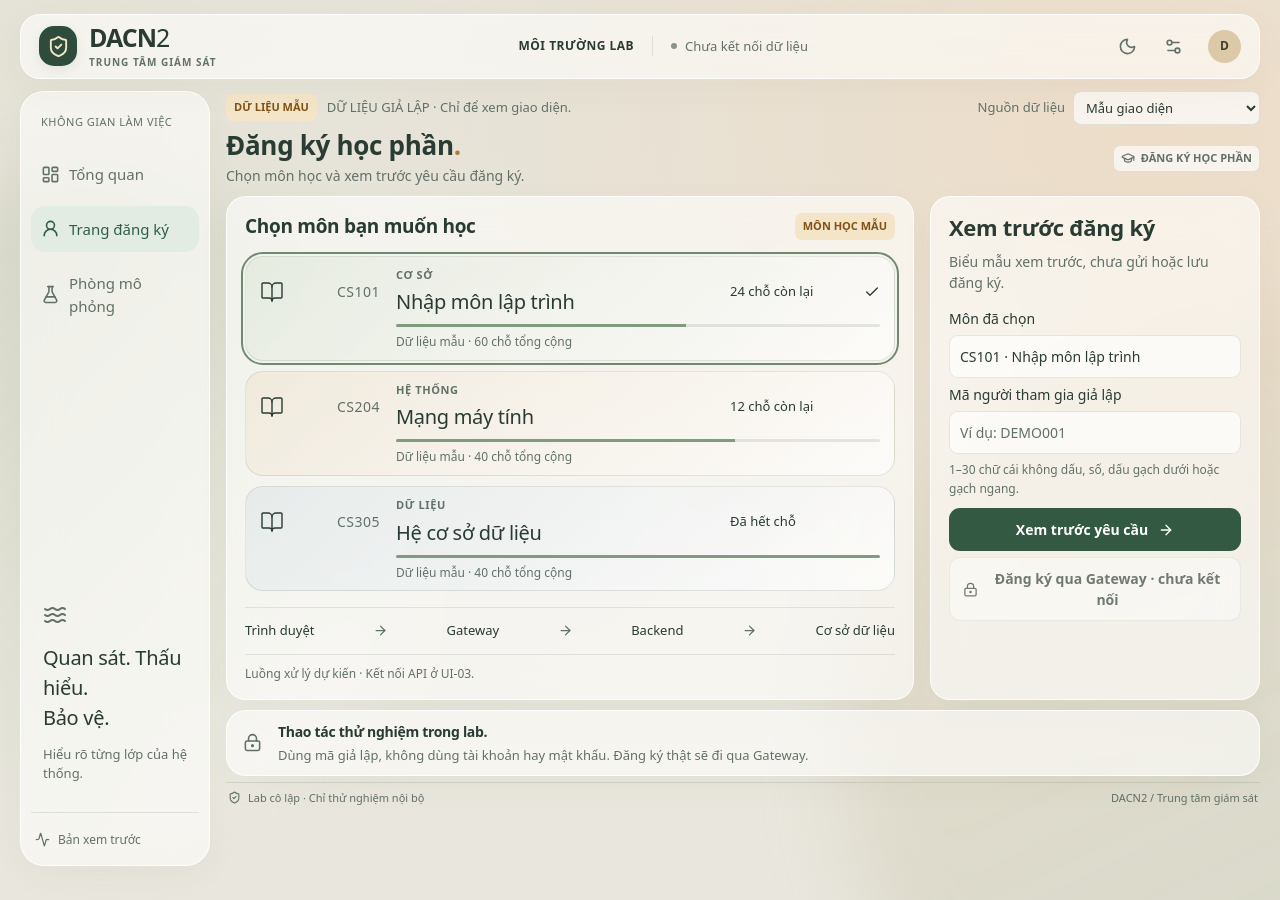
Test case: design preview provenance and boundaries › does not claim a real registration from the form preview
The image size is (1280, 900).
Type "DEMO001" into the field labelled "Mã người tham gia giả lập" at (1095, 432), box [949, 411, 1241, 454]
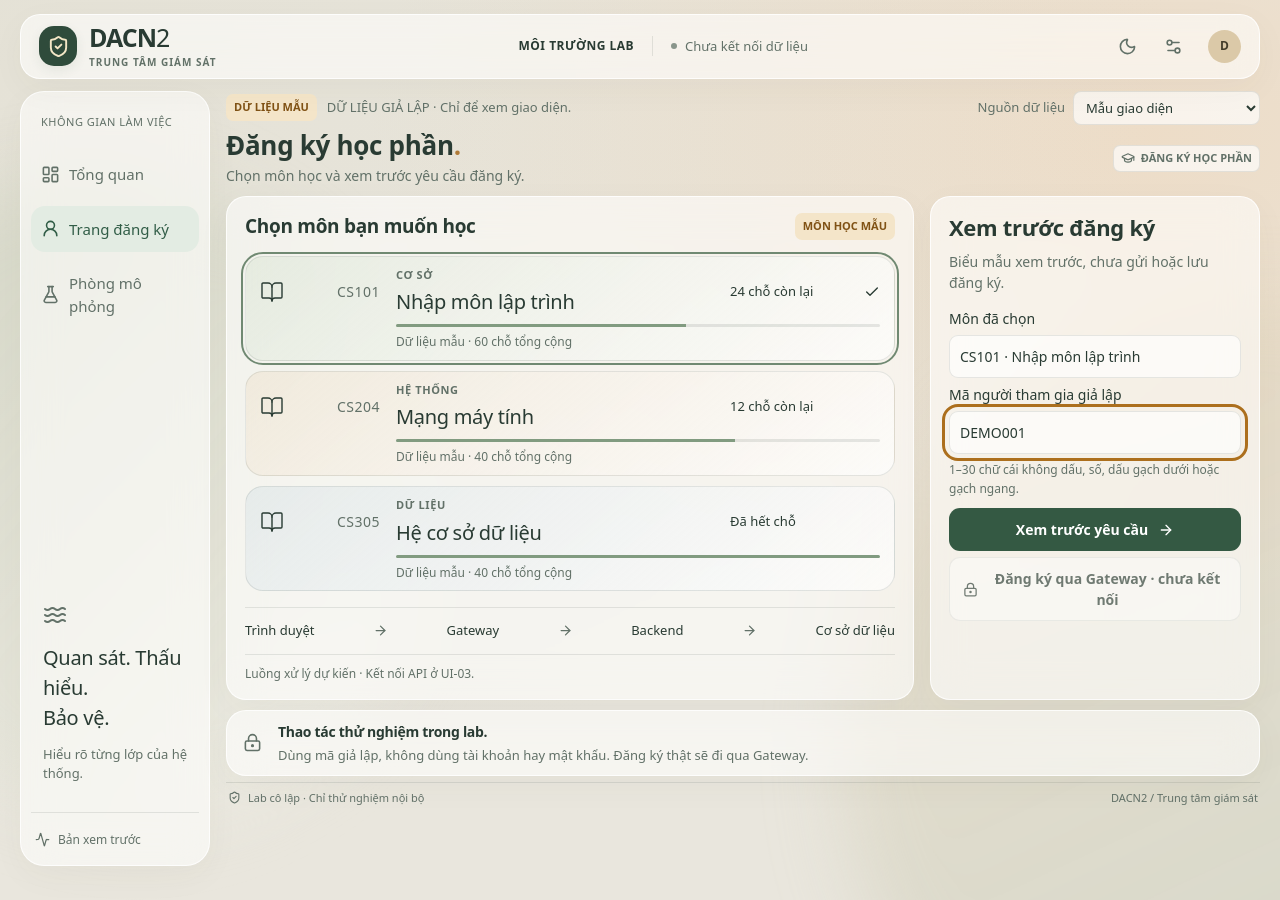
Click the button "Xem trước yêu cầu" at (1095, 530), box [949, 508, 1241, 551]
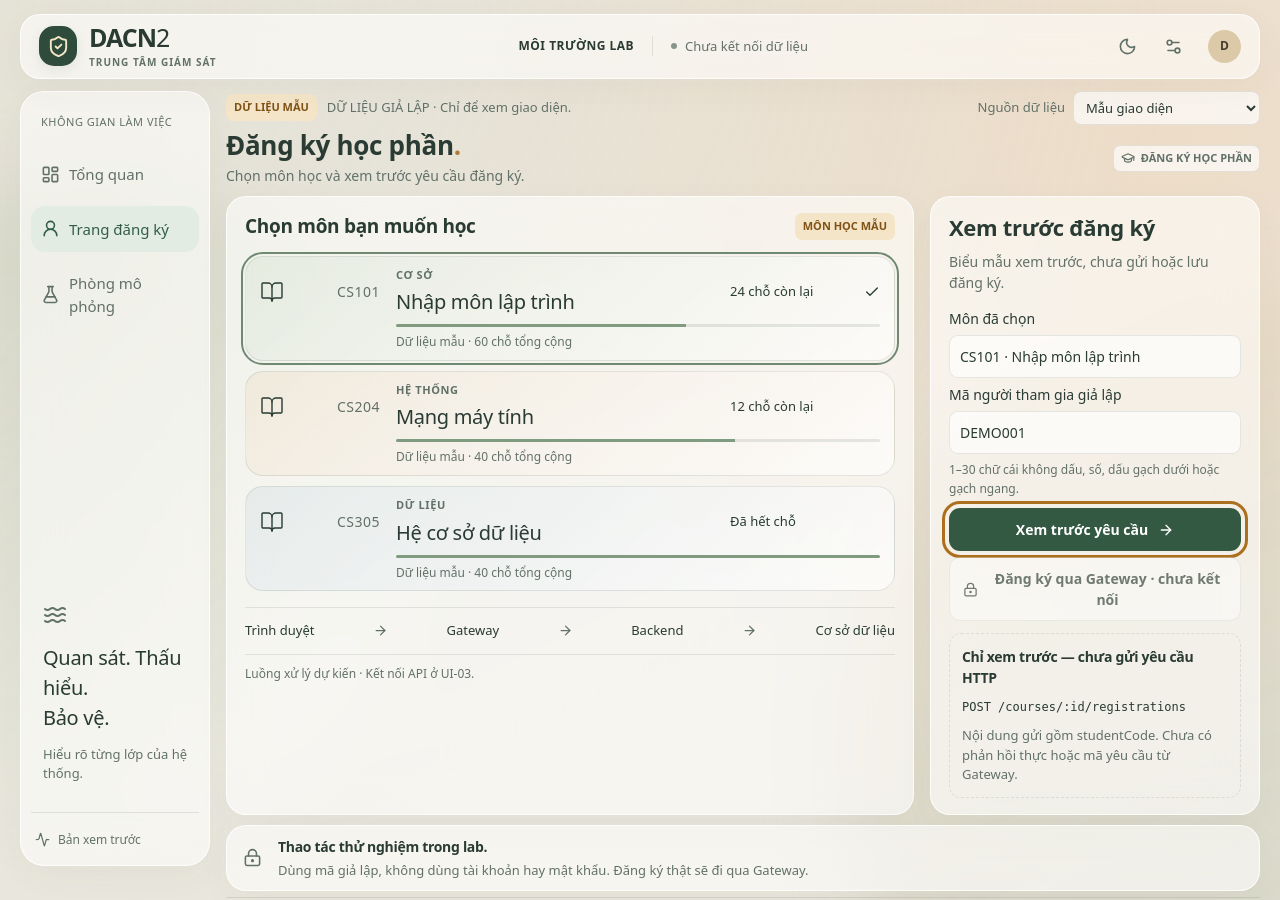
Expected: the button "Đăng ký qua Gateway · chưa kết nối" is disabled, [949, 557, 1241, 621]
Expected: the message shows "chưa gửi yêu cầu HTTP", [962, 647, 1193, 687]
Select "Trực tiếp (chưa có)" in the dropdown labelled "Nguồn dữ liệu" at (1166, 108), box [1073, 90, 1260, 124]
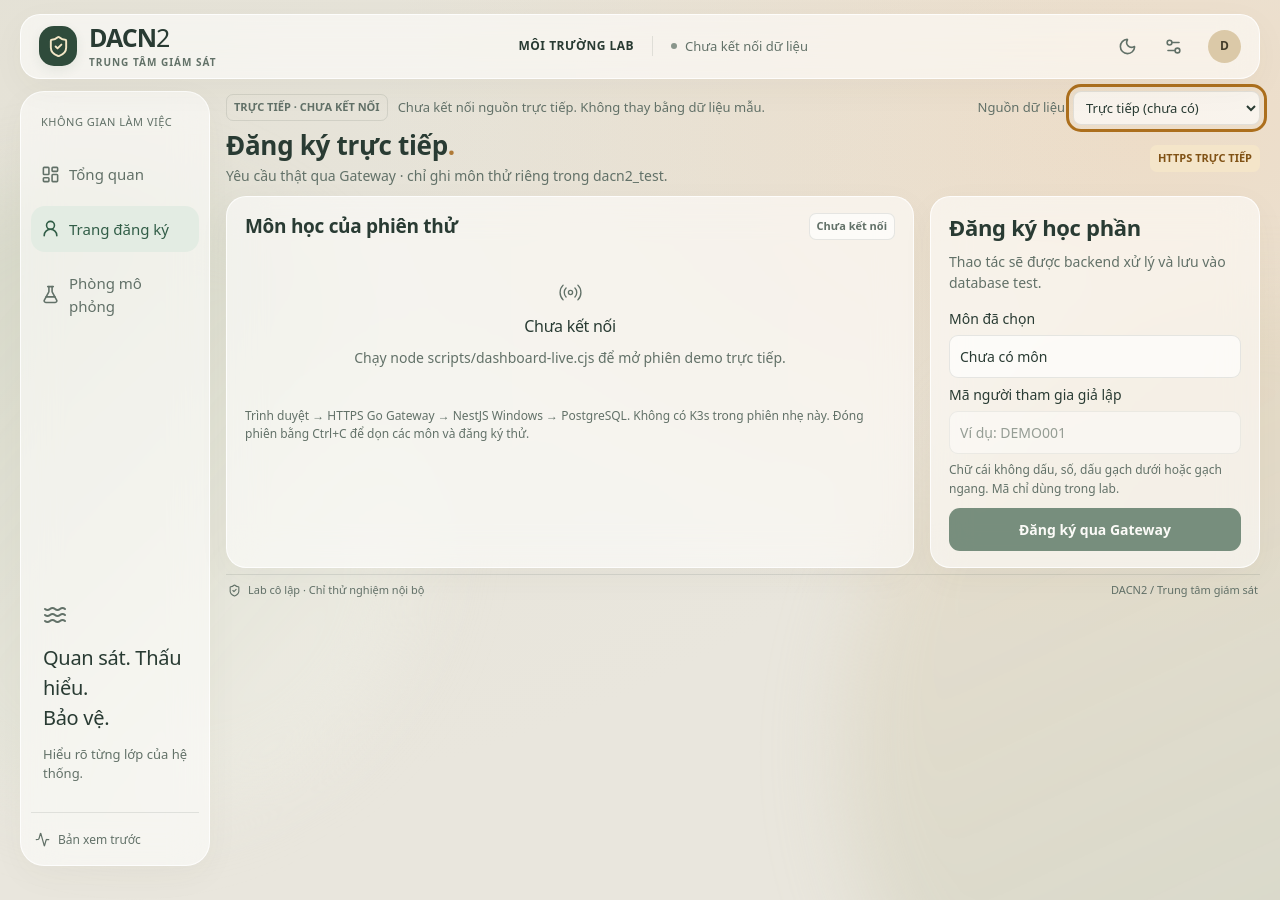
Expected: the button "Đăng ký qua Gateway" is disabled, [949, 508, 1241, 551]
Expected: the message is gone
